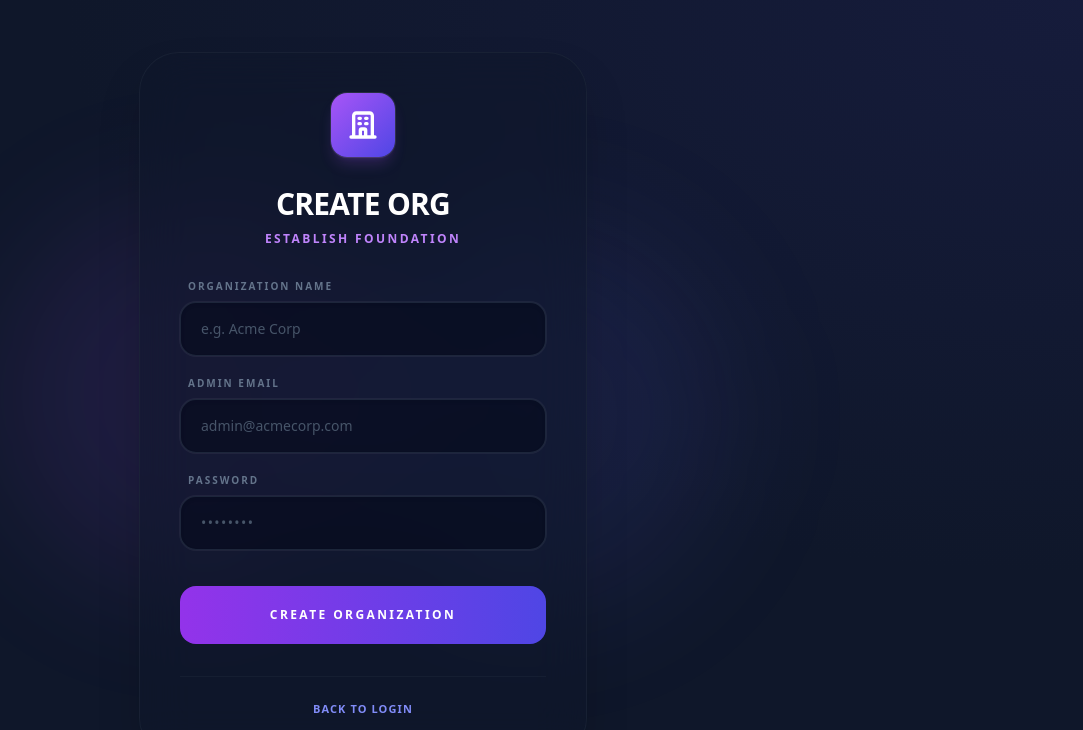
Test: Auth view unit tests › creates organization and displays invite code
The width and height of the screenshot is (1083, 730).
Type "Acme" into the field with placeholder "e.g. Acme Corp".
click(363, 329); type("Acme")  # box [180,302,546,356]
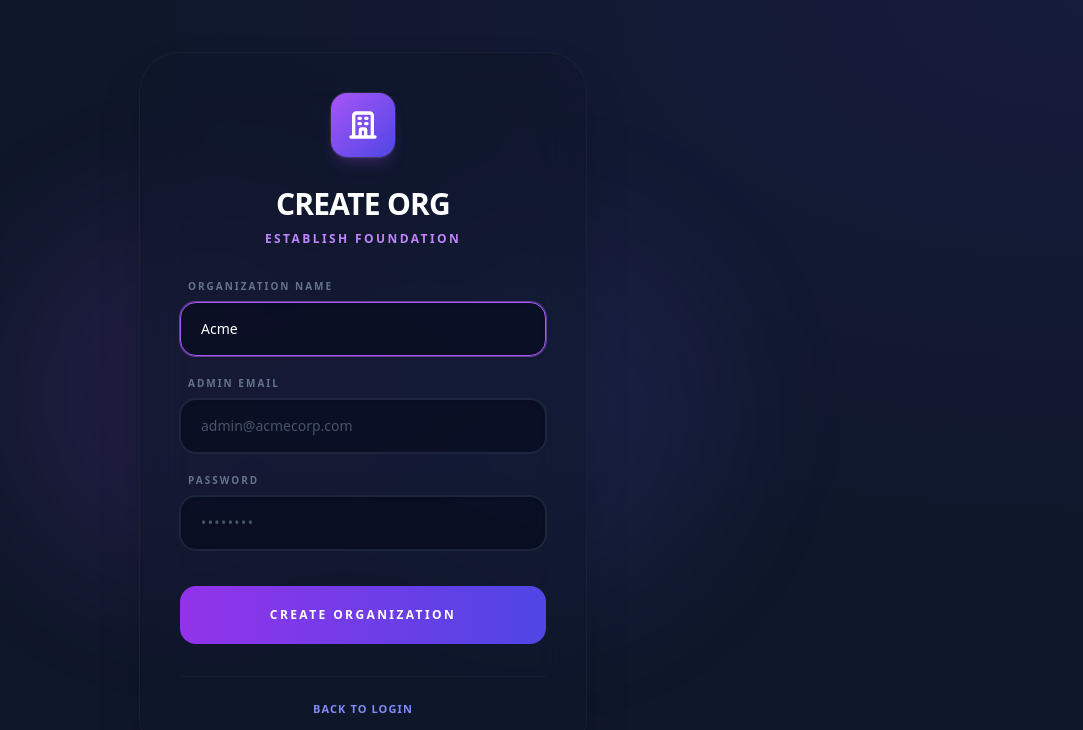
Type "admin@test.com" into the field with placeholder "admin@acmecorp.com".
click(363, 426); type("admin@test.com")  # box [180,399,546,453]
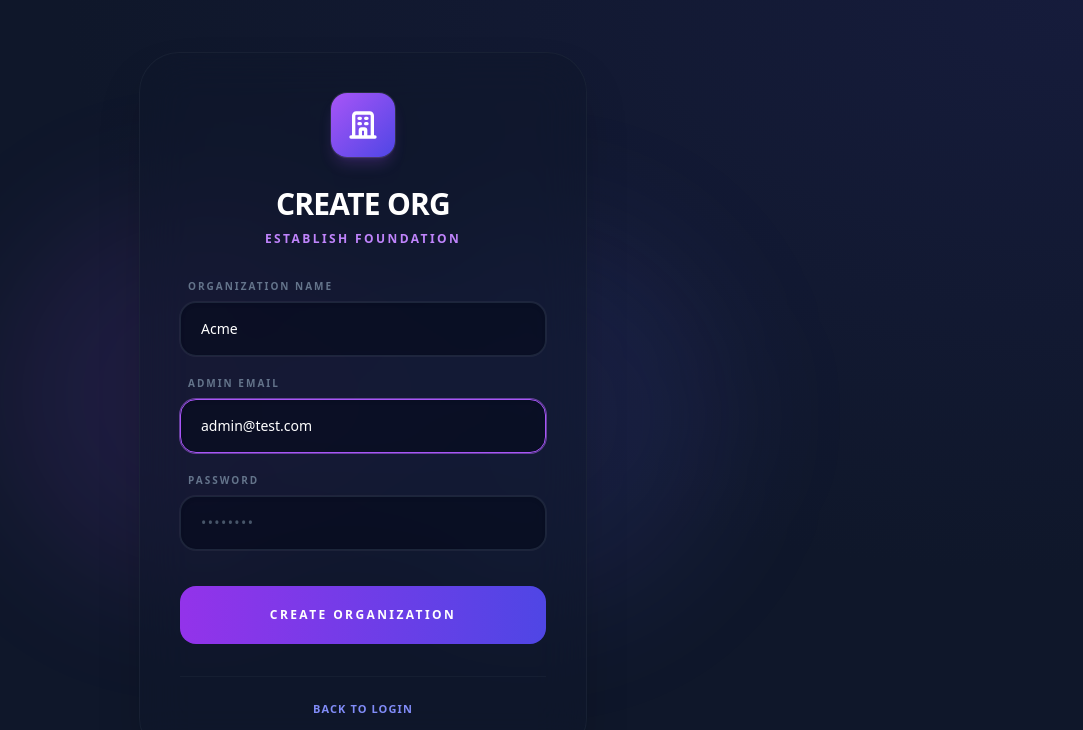
Type "password123" into the password field with placeholder "••••••••".
click(363, 523); type("password123")  # box [180,496,546,550]
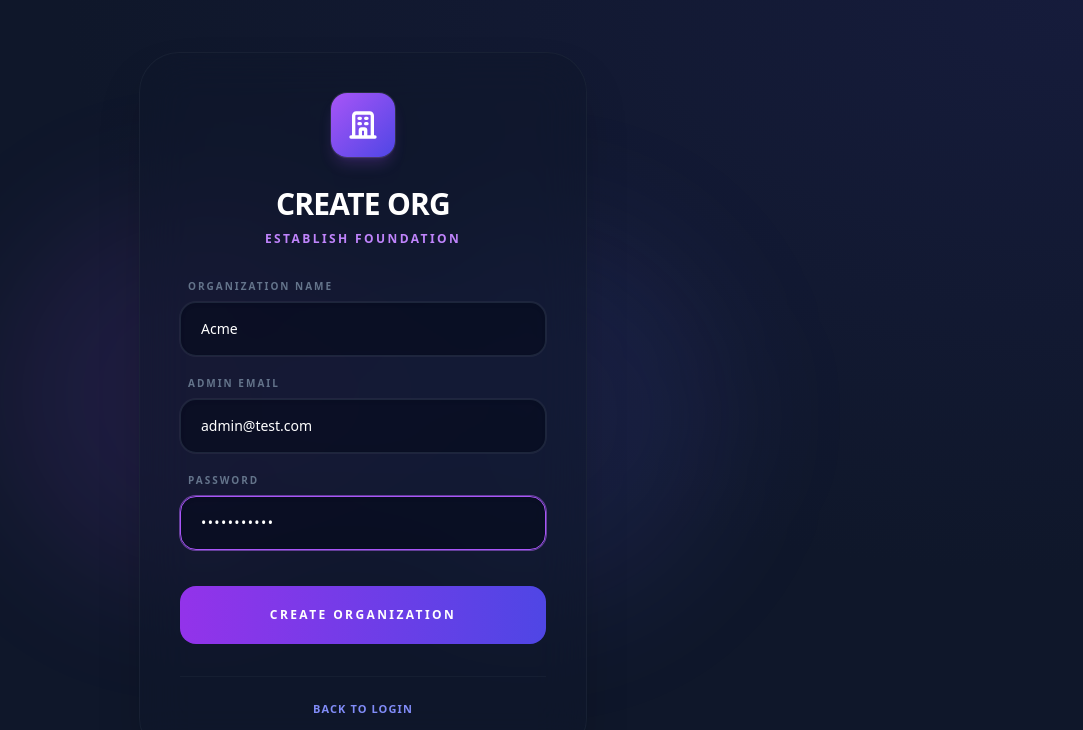
Click the button "Create Organization".
click(363, 615)  # box [180,586,546,644]
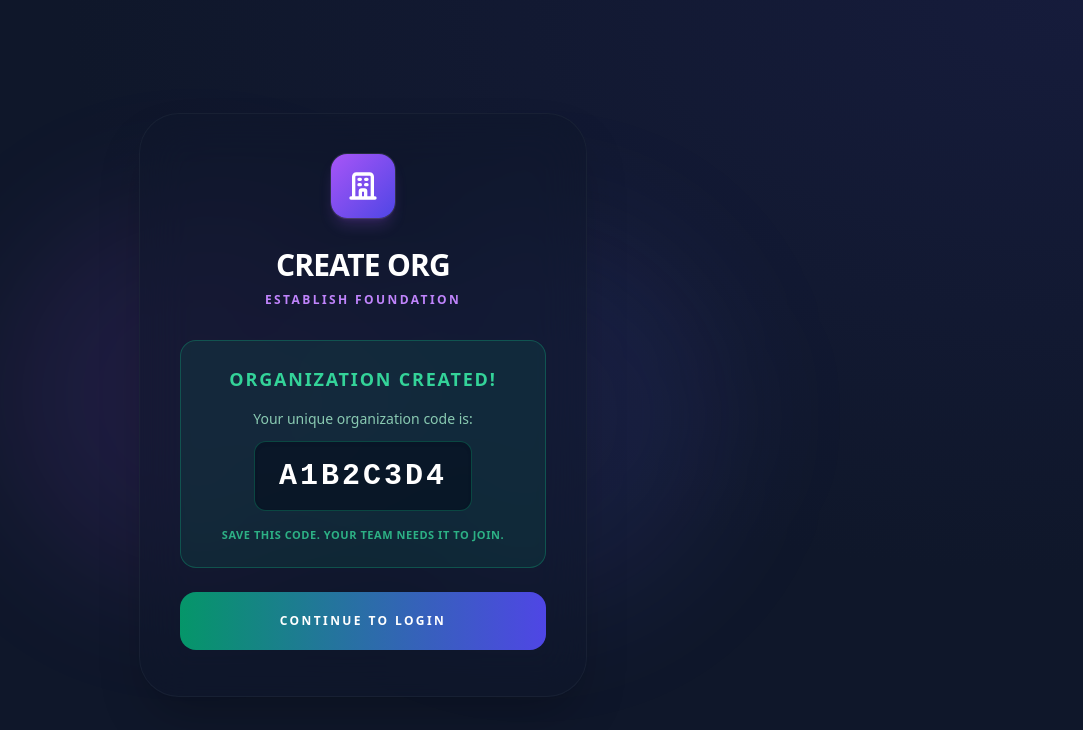
Check: the text "A1B2C3D4" is shown, box [254,441,472,511]
